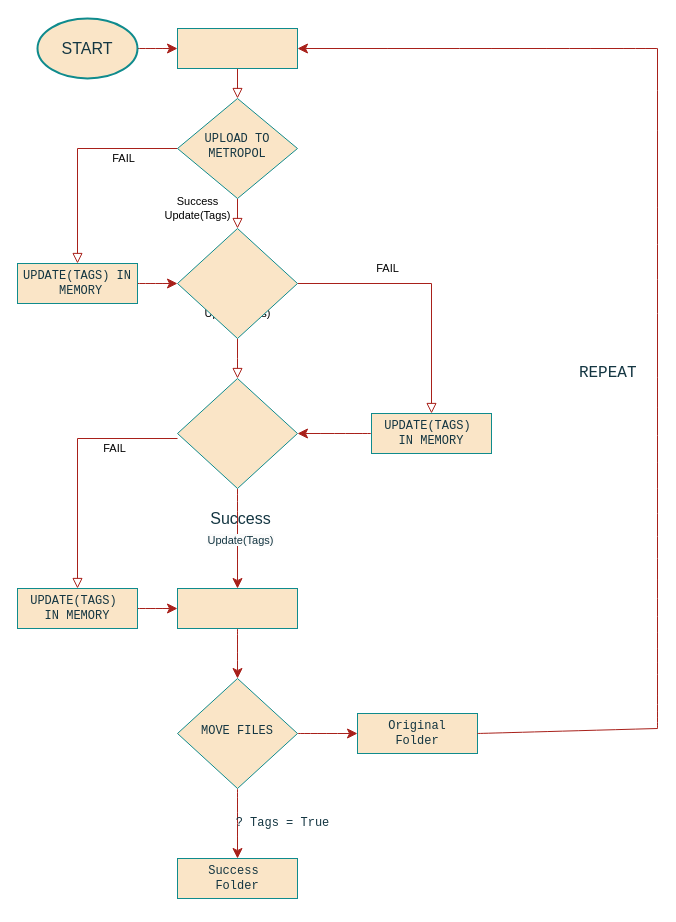
Image size: 676x922. Some labels were removed from this diagram. Each missing label, with the centre of its shape:
"APPEND/RESTORE ALL TAGS TO THE FINAL FILE" belongs at [237,608].
"STRIP TAGS" belongs at [237,48].
"UPLOAD TO CREDITINFO" belongs at [237,433].
"UPLOAD TO TRANSUNION" belongs at [237,283].
